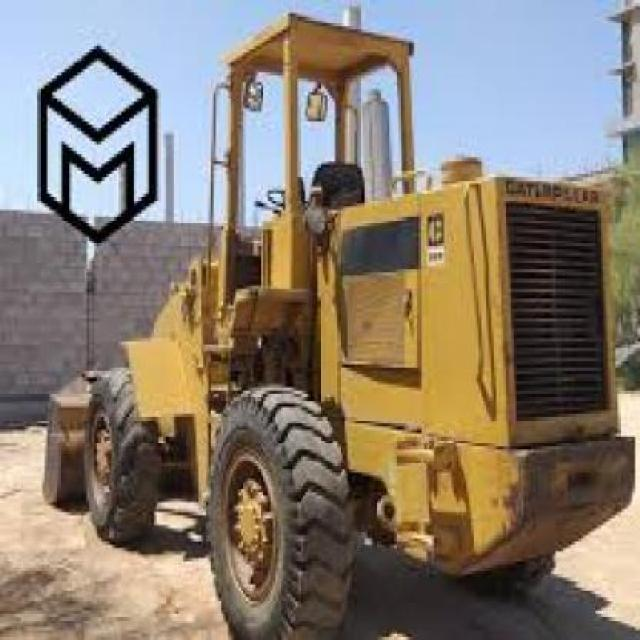buldozerpayloadergrader: (80, 14, 632, 640)
